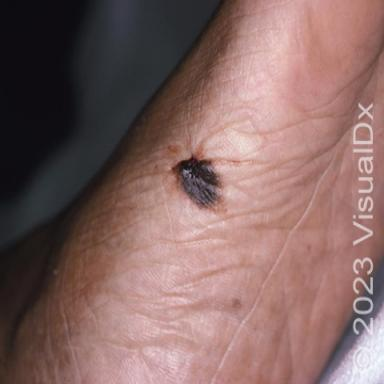Melanoma: (169, 154, 223, 212)
